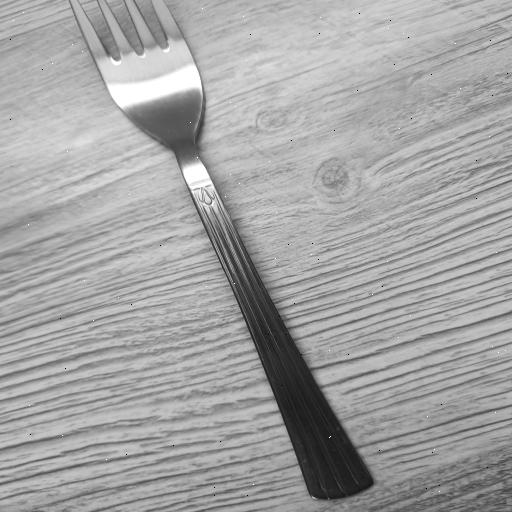fork: (59, 0, 378, 501)
